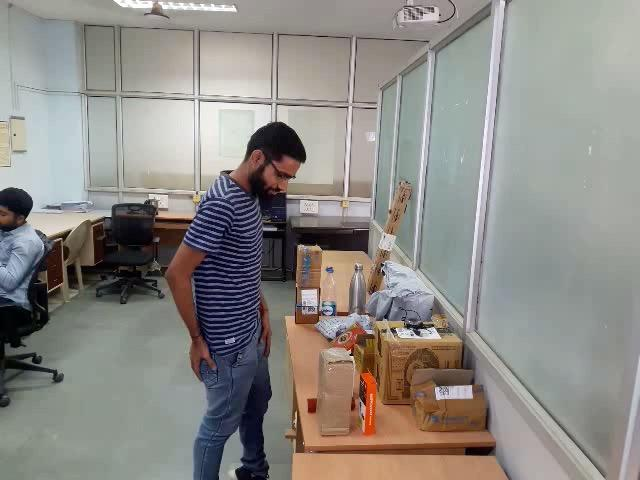Normal: (6, 0, 605, 412)
